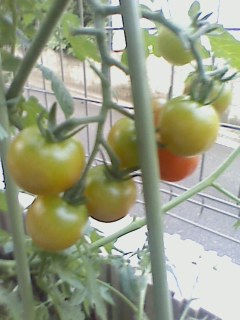stems: (67, 143, 99, 202), (48, 114, 100, 139), (190, 44, 209, 103), (102, 138, 122, 176), (111, 99, 134, 121)
tomato: (7, 126, 86, 196), (25, 194, 87, 254), (159, 95, 219, 156), (82, 164, 138, 223), (151, 131, 202, 181), (153, 19, 203, 64), (106, 115, 146, 169), (186, 70, 232, 115)
